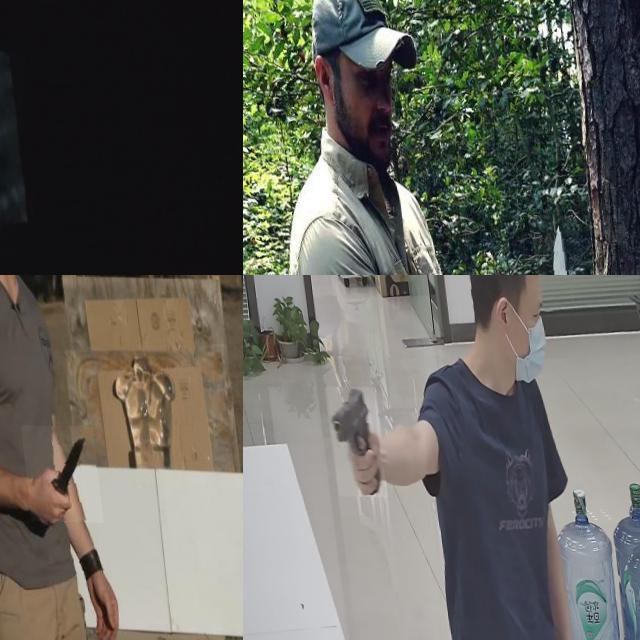-: (13, 424, 93, 521), (525, 212, 592, 275)
gun-knife-thesis - v11 Yolov5 augmented: (0, 1, 62, 275), (321, 386, 378, 496)
